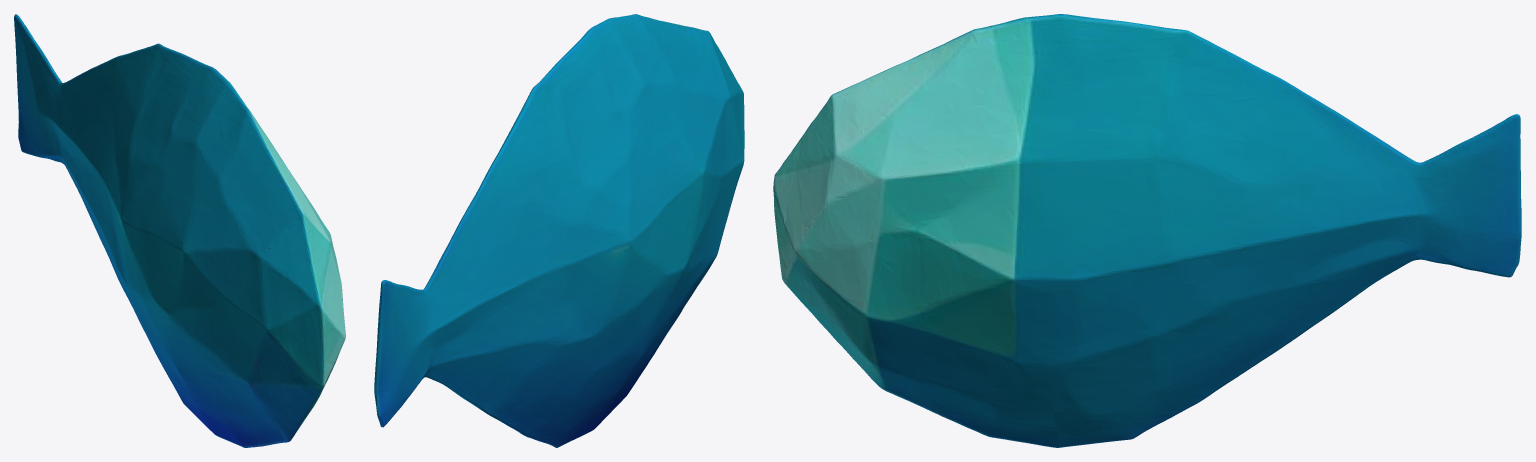
File: TEAR-ESSENCE.glb
The picture shows the model from 3 angles, left to right: view 1: azimuth 30°, elevation 25°; view 2: azimuth 150°, elevation 25°; view 3: azimuth 270°, elevation 25°; orthographic projection. The views are drawn at different scales.
Visible parts, largest first — view 1: TEAR-ESSENCE; view 2: TEAR-ESSENCE; view 3: TEAR-ESSENCE.
Boxes of the visible parts, left/top/right/bottom form: TEAR-ESSENCE: left=14, top=14, right=345, bottom=447; TEAR-ESSENCE: left=374, top=14, right=744, bottom=447; TEAR-ESSENCE: left=773, top=14, right=1521, bottom=447.
Size of the model in its own units: 0.505 by 1.27 by 1.99.
1 material, 1 textured.
